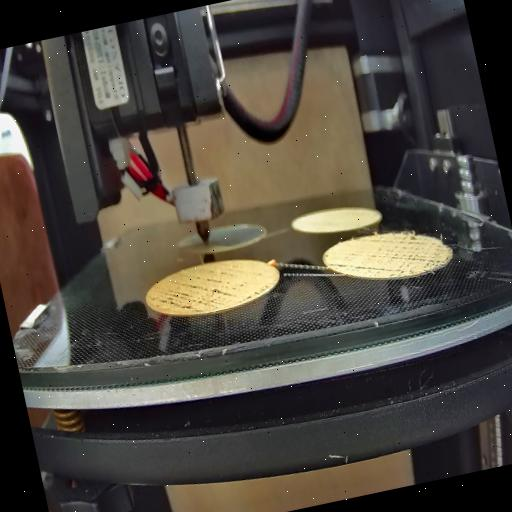under_extrusion: (143, 261, 271, 324), (323, 226, 442, 290)
